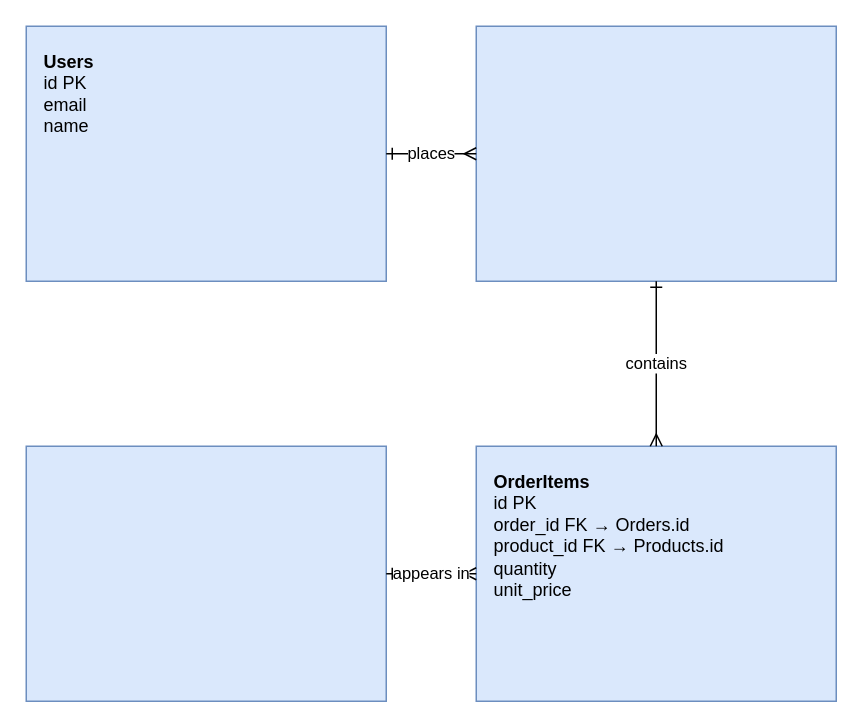
This 863x728 diagram has some shape labels left out. The centre of each missing label's shape, as x and y in pixels:
Orders id PK user_id FK → Users.id placed_at status: point 655,153
Products id PK name unit_price: point 205,573
